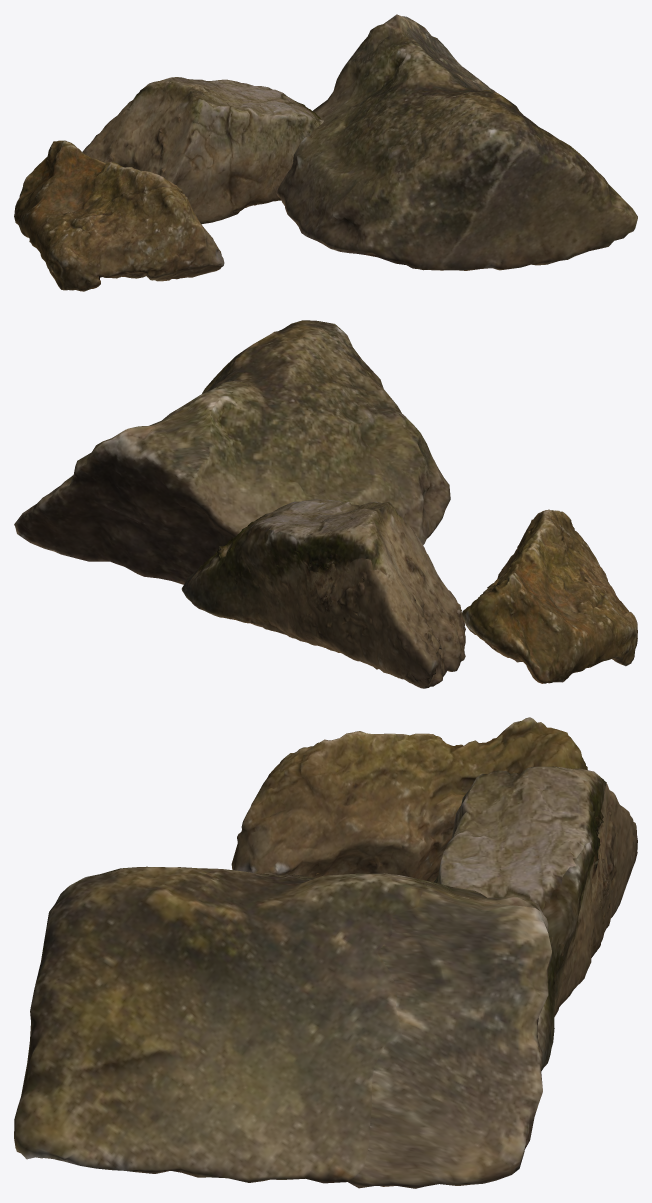
File: Shore_Stones.fbx
3 renders of one model, top to bottom at view 1: azimuth 30°, elevation 25°; view 2: azimuth 150°, elevation 25°; view 3: azimuth 270°, elevation 25°, orthographic. The views are drawn at different scales.
Visible parts, largest first — view 1: Shore_Stones; view 2: Shore_Stones; view 3: Shore_Stones.
Part boxes in pixels (x1=…): Shore_Stones: x1=14, y1=14, x2=637, y2=291; Shore_Stones: x1=14, y1=320, x2=637, y2=688; Shore_Stones: x1=14, y1=717, x2=637, y2=1188.
Bounding box in the file's own units: 0.8989 × 0.26 × 0.6097.
1 material, 1 textured.
